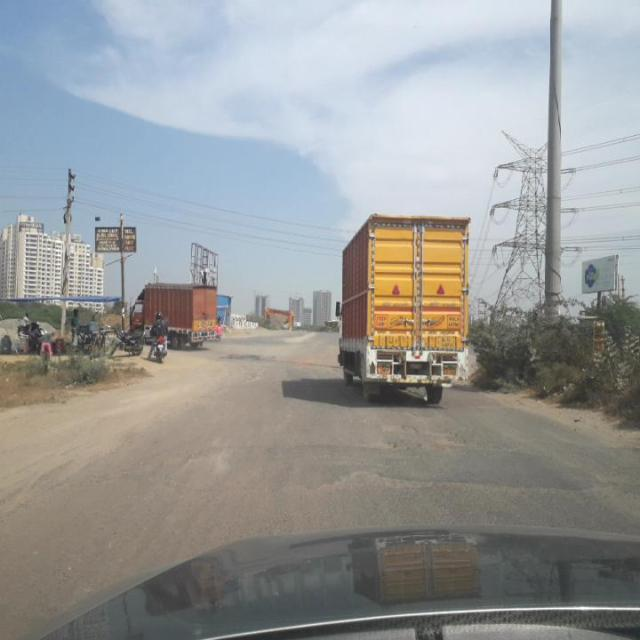D40: (344, 410, 479, 460)
